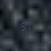five: (19, 20, 24, 31)
one: (25, 20, 30, 30)
